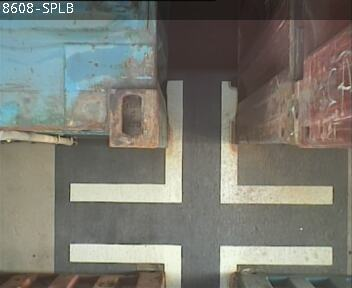groundmarker_1: (70, 81, 333, 203)
